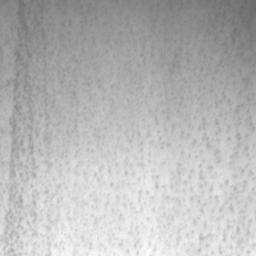Pitted surface: (0, 0, 256, 256), (58, 68, 78, 107), (170, 48, 189, 74)
